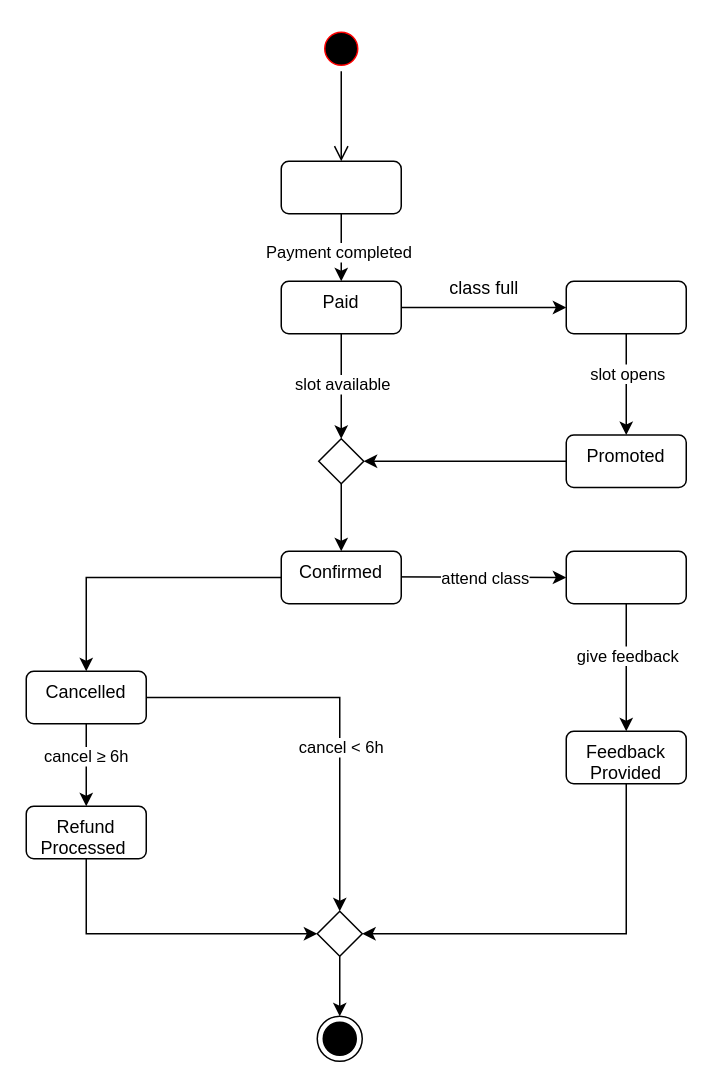
Image size: 713x1088. Some labels were removed from this diagram. The centre of each missing label's shape, as x and y in pixels:
"Attended" goes at [625,577].
"Draft" goes at [340,187].
"Waitlisted" goes at [625,307].
